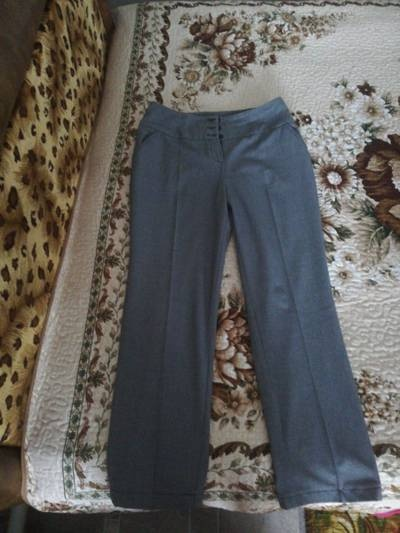Pants: (79, 66, 393, 513)
